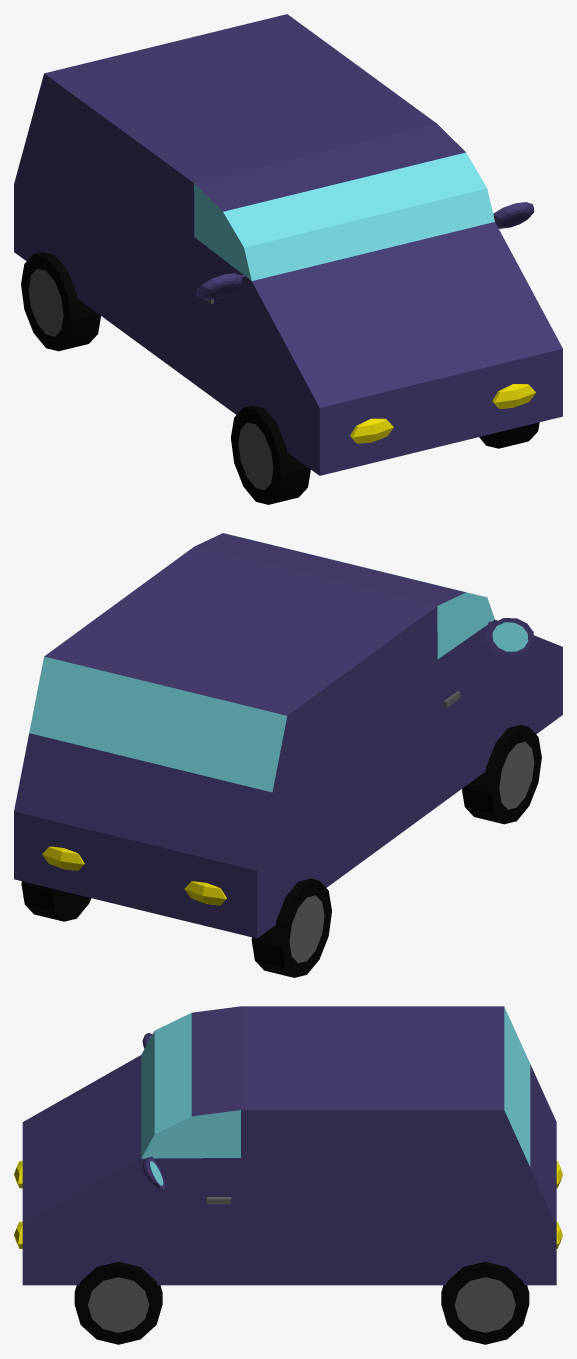
File: car4.fbx
The picture shows the model from 3 angles, top to bottom: view 1: azimuth 30°, elevation 25°; view 2: azimuth 150°, elevation 25°; view 3: azimuth 270°, elevation 25°; orthographic projection. The views are drawn at different scales.
Visible parts, largest first — view 1: Car, RBwheel, RFwheel, Mirror2, LFwheel, FLheadlight, FRheadligt, Mirror; view 2: Car, RBwheel, RFwheel, LBwheel, Mirror2, LBheadlight.001, LBheadlight; view 3: Car, LFwheel, LBwheel, Mirror.
Boxes of the visible parts, x1,y1,x2,y2 form: Car: [14, 14, 562, 475]; RBwheel: [21, 252, 100, 351]; RFwheel: [231, 405, 310, 504]; Mirror2: [196, 273, 246, 299]; LFwheel: [479, 422, 539, 448]; FLheadlight: [350, 418, 393, 443]; FRheadligt: [492, 384, 535, 408]; Mirror: [493, 202, 534, 228]; Car: [14, 533, 562, 938]; RBwheel: [251, 878, 331, 977]; RFwheel: [462, 725, 541, 824]; LBwheel: [21, 881, 91, 921]; Mirror2: [484, 618, 534, 655]; LBheadlight.001: [184, 881, 226, 905]; LBheadlight: [42, 846, 84, 870]; Car: [22, 1006, 556, 1285]; LFwheel: [74, 1261, 162, 1344]; LBwheel: [441, 1261, 529, 1344]; Mirror: [142, 1156, 165, 1189].
Bounding box in the file's own units: 440 × 330 × 709.
